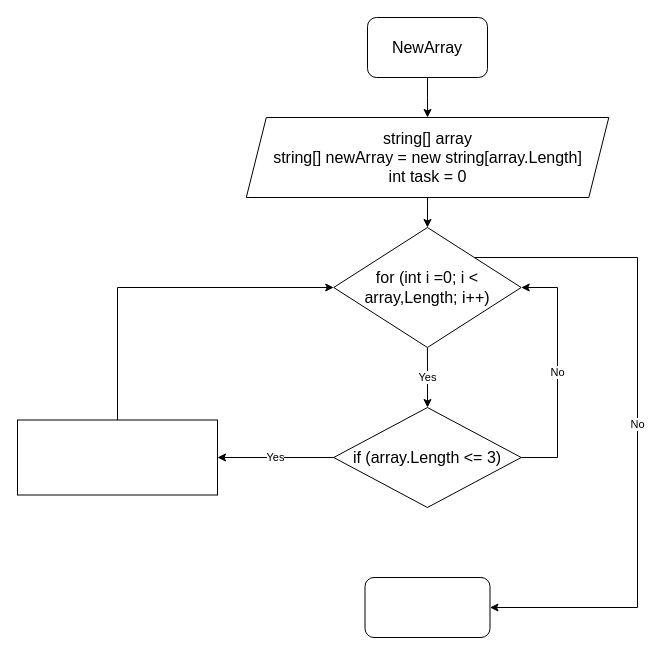
The diagram is 663 pixels wide and 655 high, and some of its shapes have lost their labels. The shapes that lost their labels are listed below. From the top down, each one's centre as x and y in pixels, then its label:
At (117,457): "newArray[temp] = array[i]; temp++;".
At (427,607): "return newArray".
